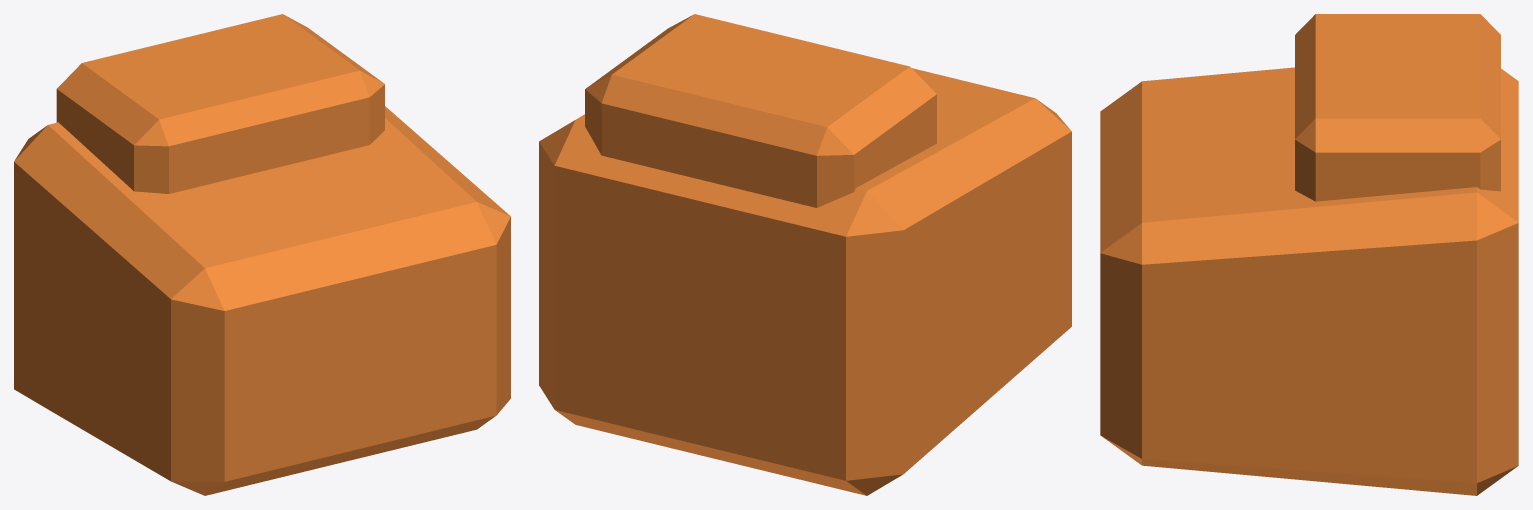
Rendered from OrangeBeanbag.fbx.
3 views of the same model, side by side, from view 1: azimuth 30°, elevation 25°; view 2: azimuth 150°, elevation 25°; view 3: azimuth 270°, elevation 25° (orthographic). The views are drawn at different scales.
Parts seen in each view (by area): view 1: OrangeBeanbag; view 2: OrangeBeanbag; view 3: OrangeBeanbag.
Part boxes in pixels (left/top/right/bottom): OrangeBeanbag: left=14, top=14, right=510, bottom=495; OrangeBeanbag: left=539, top=14, right=1071, bottom=495; OrangeBeanbag: left=1100, top=14, right=1518, bottom=495.
Bounding box in the file's own units: 2.6 × 2.46 × 2.6.
1 material, 1 textured.
